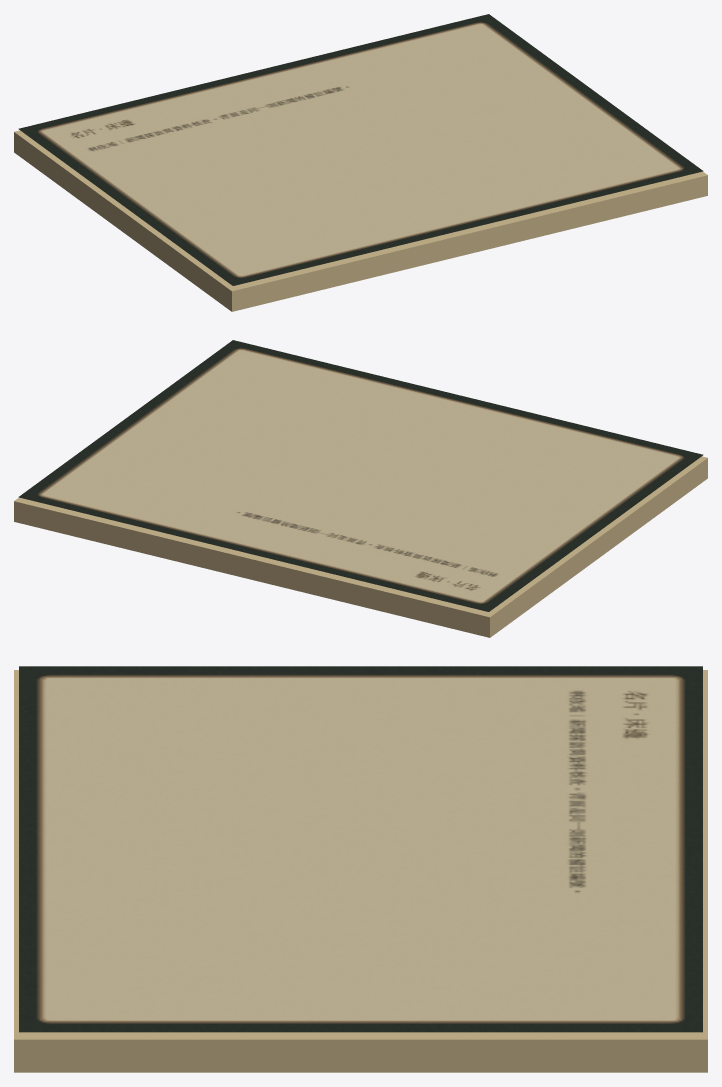
3 views of the same model, one above another, from view 1: azimuth 30°, elevation 25°; view 2: azimuth 150°, elevation 25°; view 3: azimuth 270°, elevation 25° (orthographic). The views are drawn at different scales.
Visible parts, largest first — view 1: a-card; view 2: a-card; view 3: a-card.
Boxes of the visible parts, x1=… form: a-card: x1=14, y1=14, x2=707, y2=311; a-card: x1=14, y1=340, x2=707, y2=637; a-card: x1=14, y1=666, x2=707, y2=1072.
Bounding box in the file's own units: 0.29 × 0.014 × 0.23.
2 materials, 1 textured.
